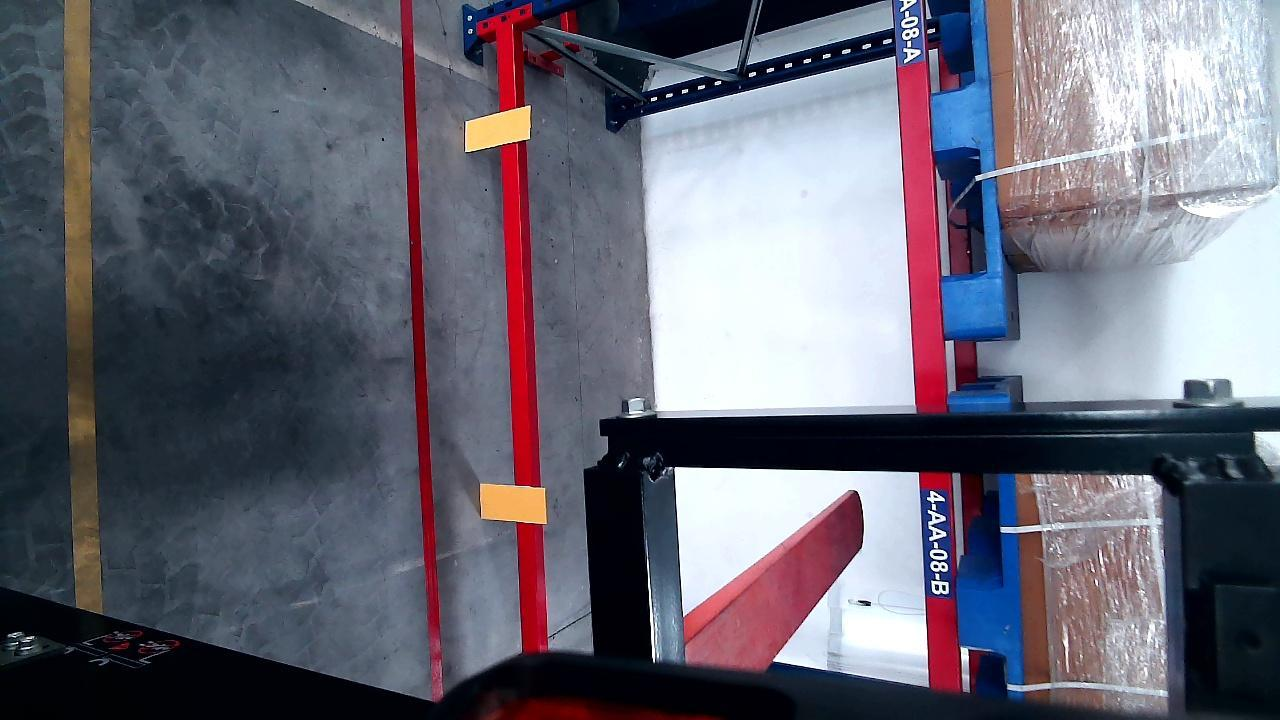red_line: (396, 1, 446, 703)
yellow_line: (63, 0, 103, 608)
